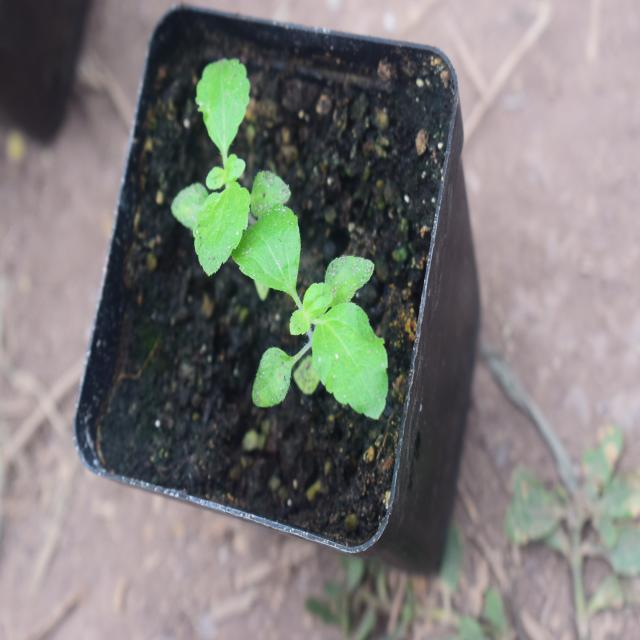billygoat_weed: (245, 210, 379, 452), (167, 51, 273, 283)
